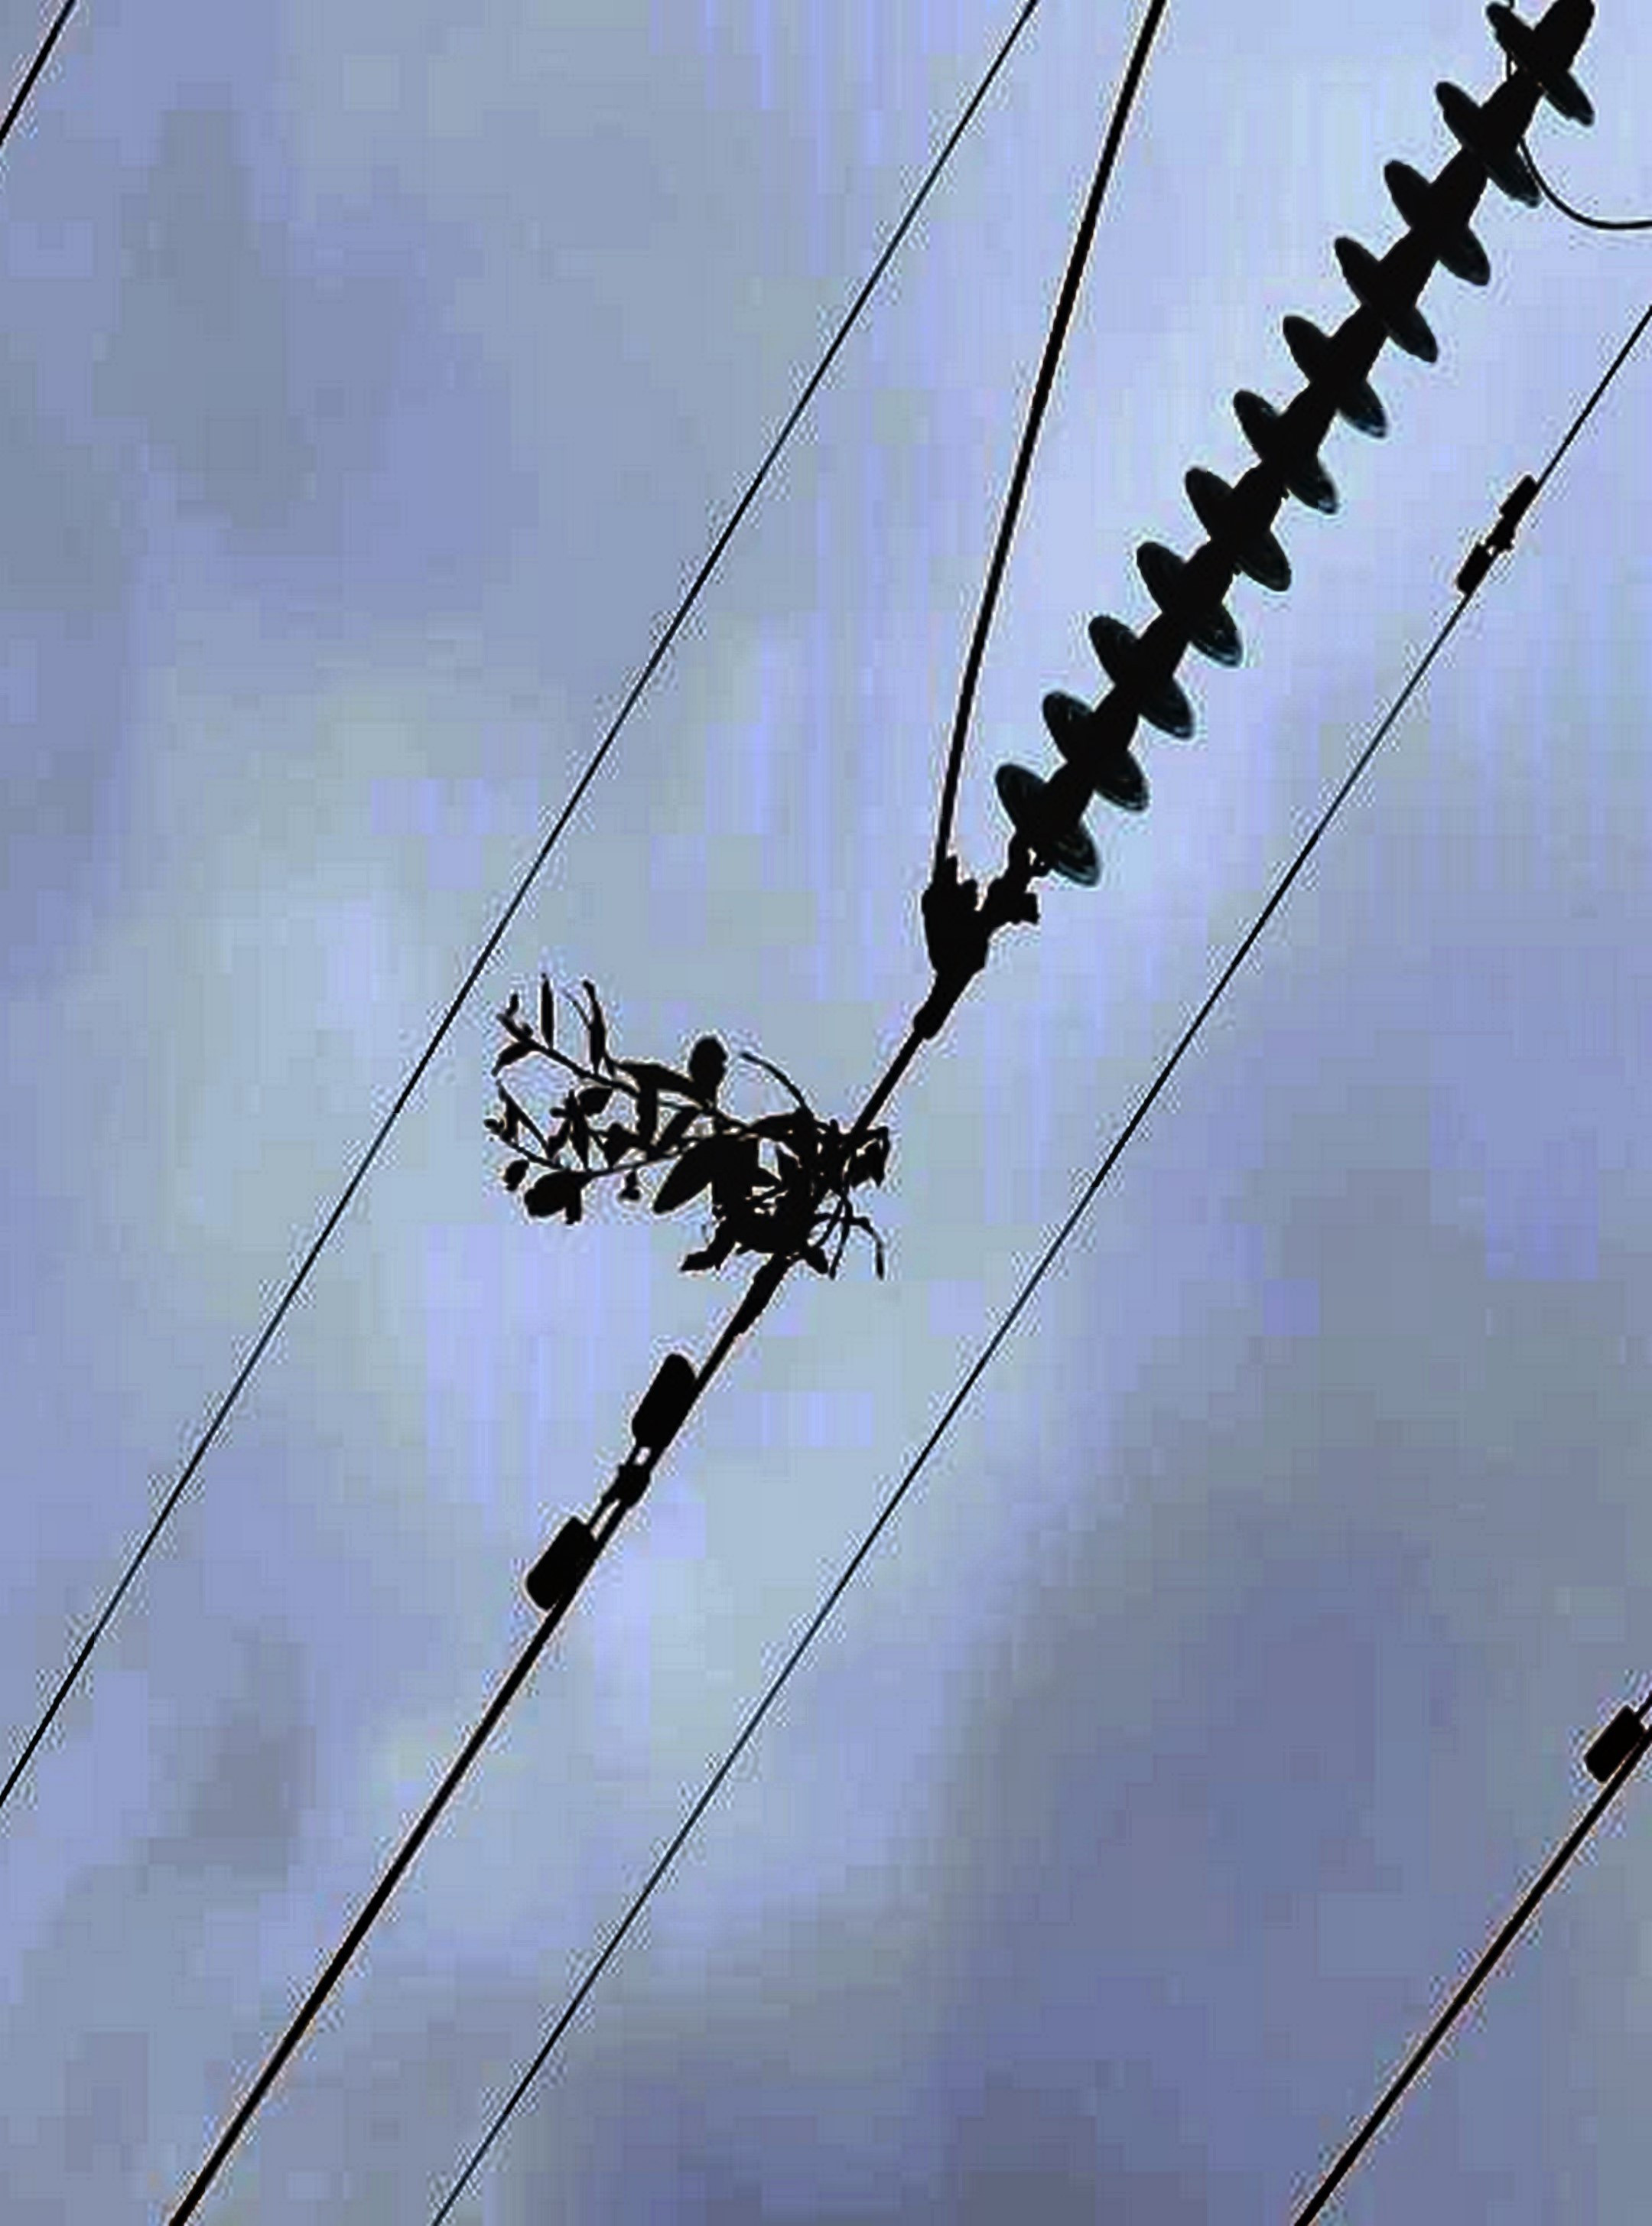wire foreign body: (460, 970, 941, 1334)
